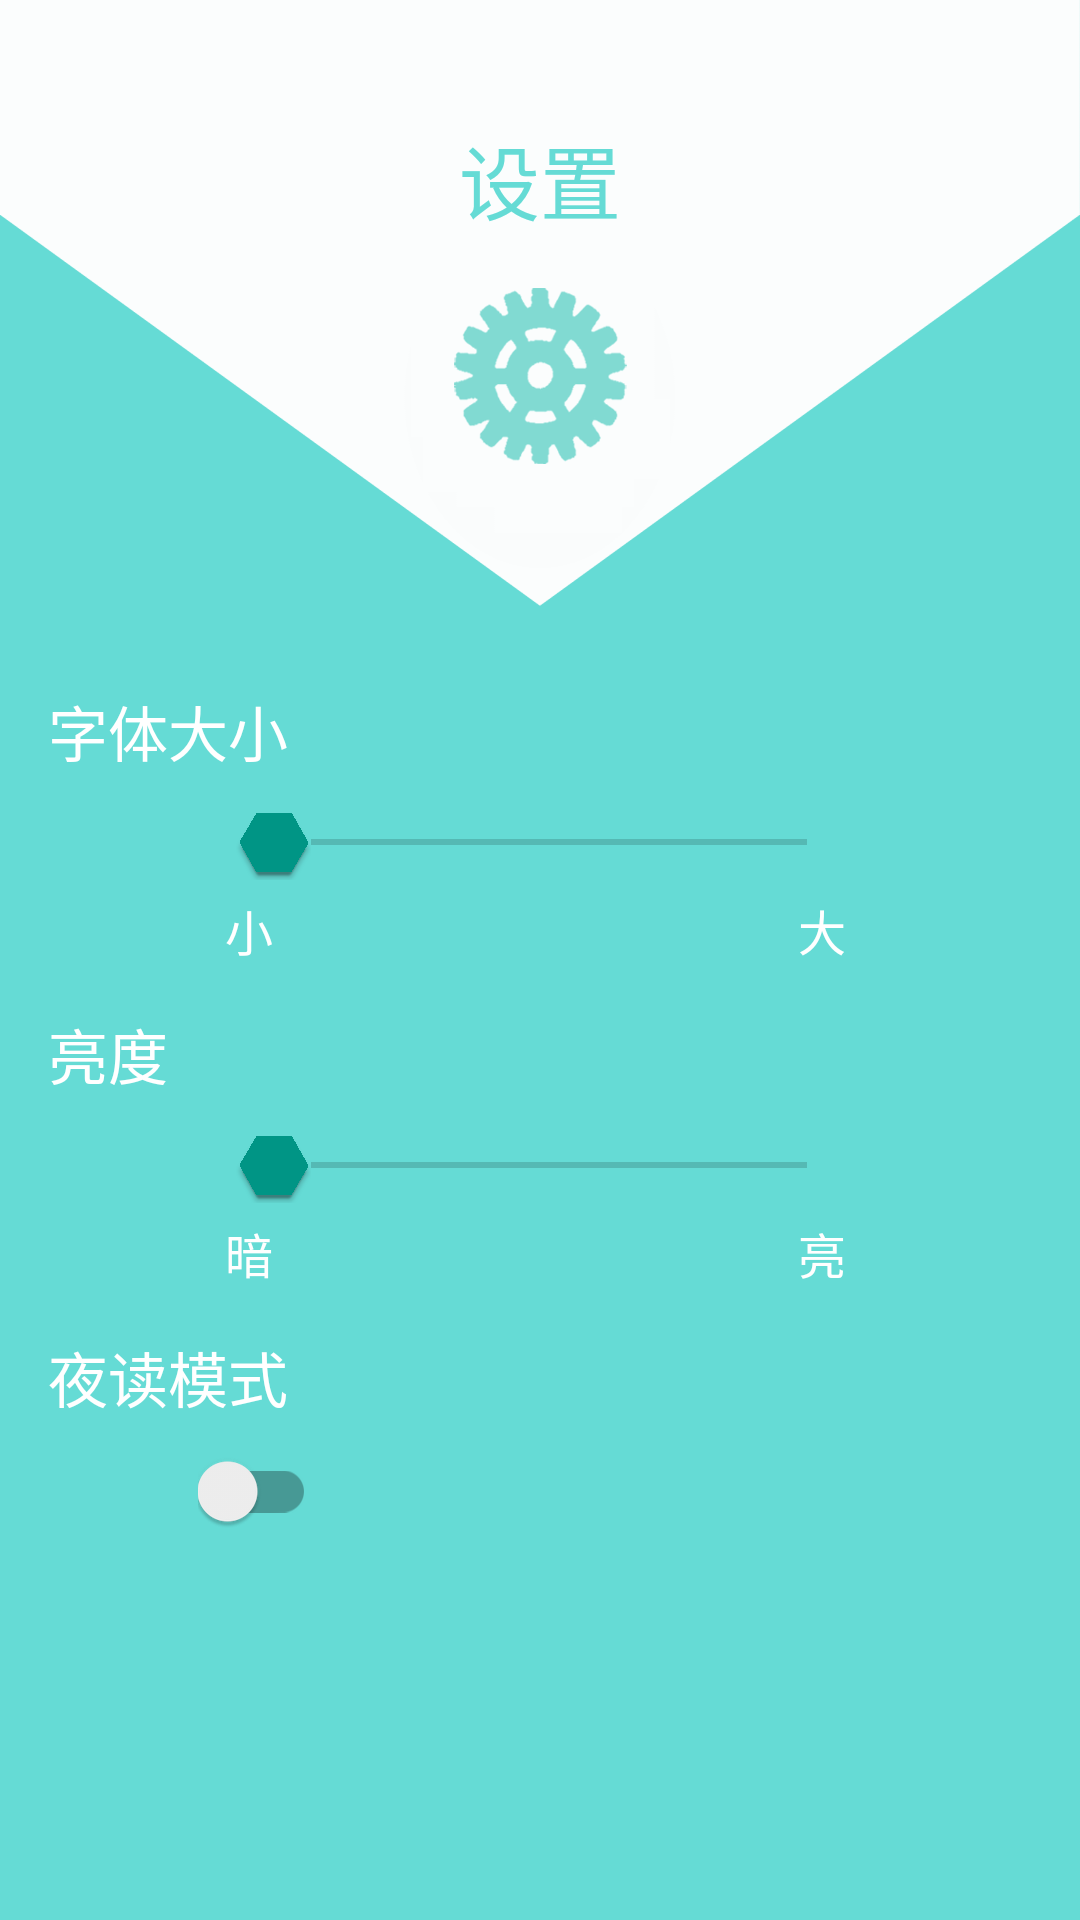

Point at icon controls on the screen. Image size 1080px×1920px, points as (x=x, y=y).
settings badge: (x=540, y=376)
